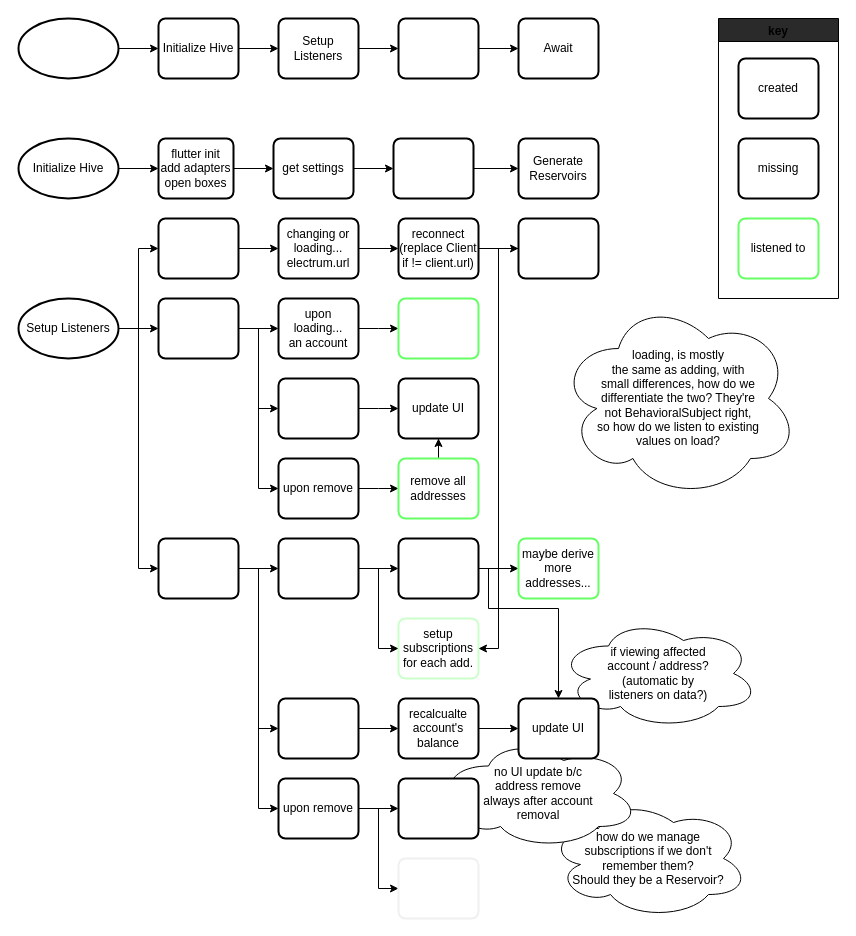
Image size: 856x936. Some labels were removed from this diagram. Each missing label, with the centre of its shape:
create address (es): point (438, 328)
Generate Client: point (433, 168)
get chain data for each add.: point (438, 568)
Listen to Accounts: point (198, 328)
Listen to Addresses: point (198, 568)
Listen to Settings: point (198, 248)
Load Content: point (438, 48)
Open App: point (68, 48)
recreate client, services: point (558, 248)
remove related histories: point (438, 888)
unsubscribe: point (438, 808)
upon change: point (318, 408)
upon change (balance): point (318, 728)
upon loading... an address: point (318, 568)
